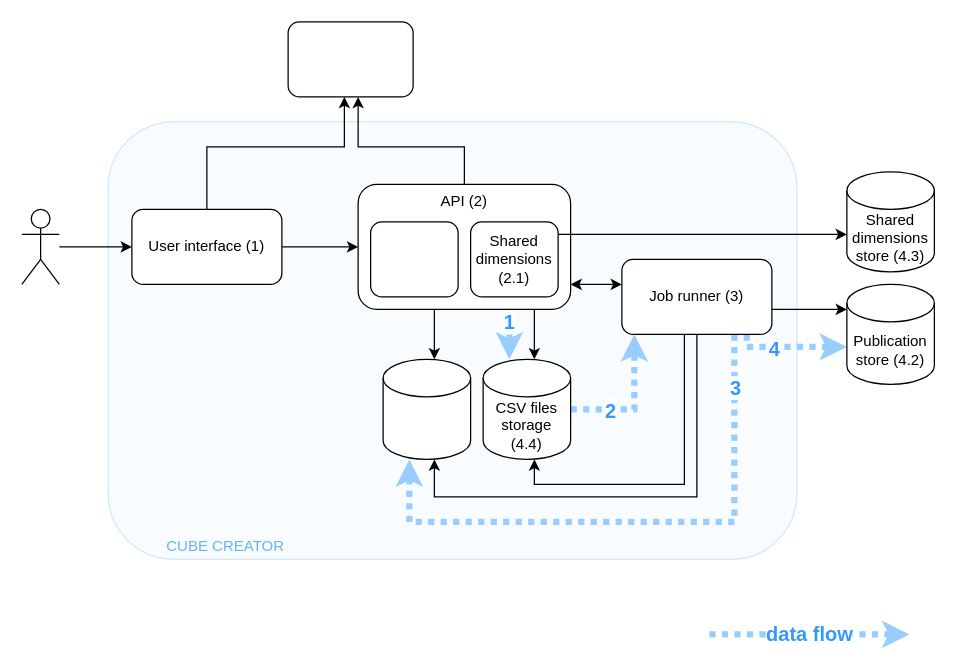
Some shapes in this 956 by 669 pixel diagram are drawn without their labels. The centre of each missing label's shape, as x and y in pixels:
Authentication service (5): the point at 350,59
Core (2.1): the point at 413,259
Cube Creator store (4.1): the point at 426,408
User: the point at 40,246
